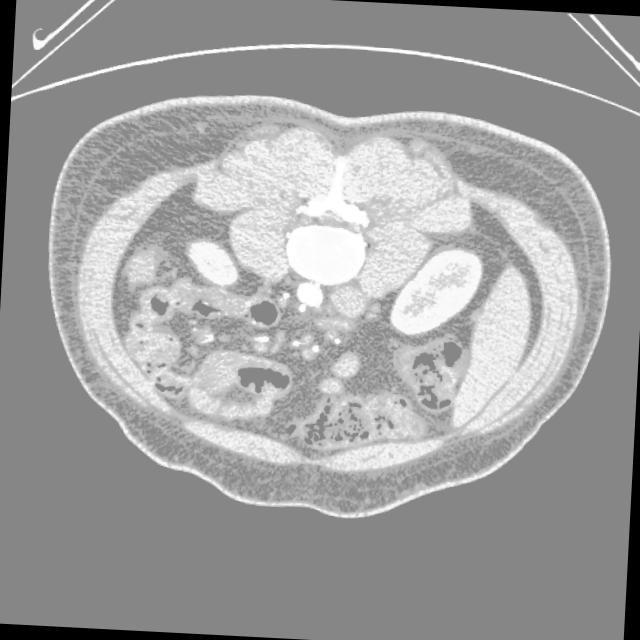NORMAL: (16, 87, 631, 534)
